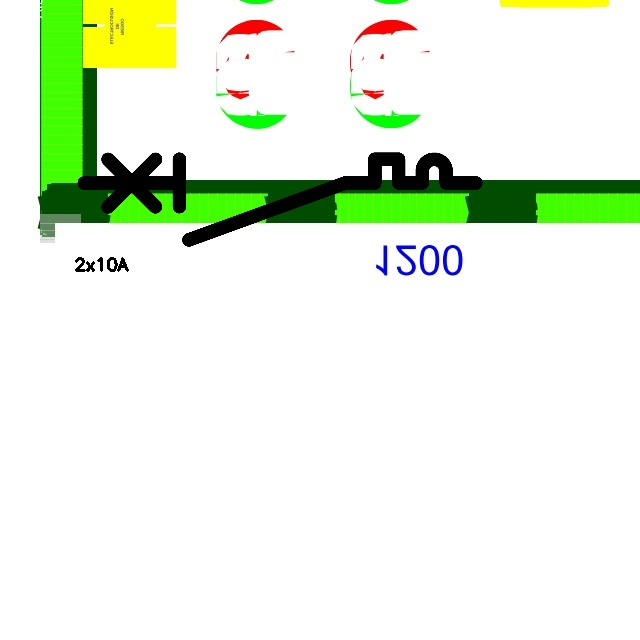interruptor_termomagnetico: (74, 149, 486, 249)
